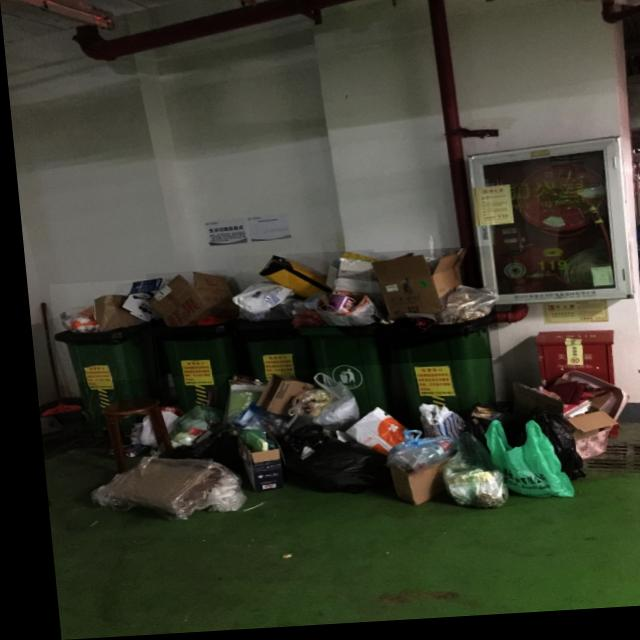garbage: (70, 358, 627, 532)
overflow: (362, 251, 498, 427), (44, 280, 164, 437), (281, 254, 380, 419), (221, 255, 333, 392), (140, 271, 236, 414)
